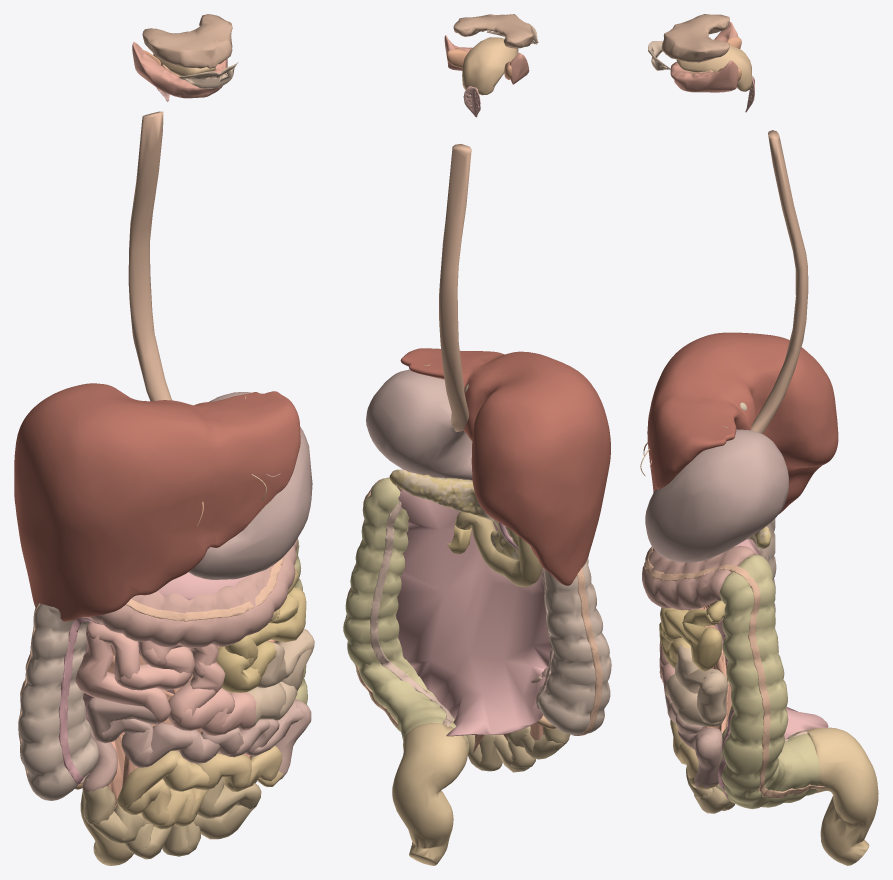
File: body-digestive.lod1.glb
3 views of the same model, side by side, from view 1: azimuth 30°, elevation 25°; view 2: azimuth 150°, elevation 25°; view 3: azimuth 270°, elevation 25° (orthographic). The views are drawn at different scales.
Visible parts, largest first — view 1: liver, distal-part-of-jejunum, ascending-colon, proximal-part-of-ileum, transverse-colon, middle-part-of-ileum, distal-part-of-ileum, stomach, esophagus, proximal-part-of-jejunum, gingiva-of-upper-jaw, middle-part-of-jejunum (+8 smaller); view 2: liver, transverse-mesocolon, descending-colon, stomach, ascending-colon, rectum, esophagus, distal-part-of-ileum, duodenum, taenia-mesocolica, tongue, pancreas (+4 smaller); view 3: liver, descending-colon, stomach, rectum, esophagus, transverse-colon, middle-part-of-jejunum, proximal-part-of-jejunum, taenia-omentalis, gingiva-of-upper-jaw, proximal-part-of-ileum, gingiva-of-lower-jaw (+5 smaller).
Boxes of the visible parts, box(x1,y1,x2,y2) form: liver: box(14, 383, 300, 621); distal-part-of-jejunum: box(75, 622, 256, 735); ascending-colon: box(18, 604, 98, 800); proximal-part-of-ileum: box(86, 697, 311, 779); transverse-colon: box(89, 539, 297, 647); middle-part-of-ileum: box(117, 745, 283, 829); distal-part-of-ileum: box(82, 777, 261, 859); stomach: box(188, 392, 312, 579); esophagus: box(128, 111, 171, 401); proximal-part-of-jejunum: box(216, 567, 306, 692); gingiva-of-upper-jaw: box(142, 14, 232, 68); middle-part-of-jejunum: box(247, 629, 314, 726); liver: box(400, 348, 610, 585); transverse-mesocolon: box(396, 489, 551, 736); descending-colon: box(343, 478, 469, 753); stomach: box(366, 369, 472, 480); ascending-colon: box(538, 557, 611, 735); rectum: box(392, 723, 468, 865); esophagus: box(439, 144, 471, 431); distal-part-of-ileum: box(467, 726, 570, 772); duodenum: box(454, 511, 542, 587); taenia-mesocolica: box(370, 501, 553, 726); tongue: box(462, 37, 518, 95); pancreas: box(389, 469, 519, 560); liver: box(647, 332, 838, 513); descending-colon: box(716, 554, 819, 809); stomach: box(645, 429, 788, 562); rectum: box(804, 727, 878, 865); esophagus: box(750, 130, 808, 433); transverse-colon: box(642, 545, 756, 610); middle-part-of-jejunum: box(665, 640, 728, 726); proximal-part-of-jejunum: box(659, 600, 725, 671); taenia-omentalis: box(644, 546, 824, 798); gingiva-of-upper-jaw: box(661, 14, 729, 62); proximal-part-of-ileum: box(665, 695, 722, 789); gingiva-of-lower-jaw: box(670, 22, 738, 92).
Bounding box in the file's own units: 0.244 × 0.7225 × 0.1869.
